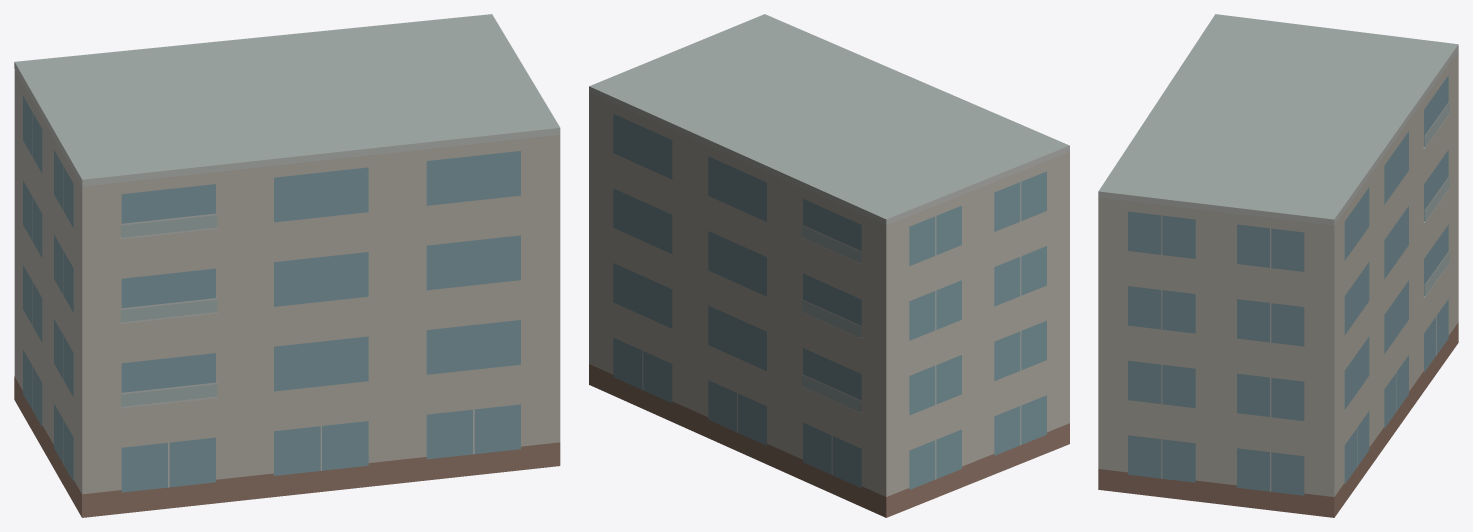
File: survey-upis-32871700.glb
The picture shows the model from 3 angles, left to right: view 1: azimuth 30°, elevation 25°; view 2: azimuth 150°, elevation 25°; view 3: azimuth 270°, elevation 25°; orthographic projection. The views are drawn at different scales.
Visible parts, largest first — view 1: survey-upis-32871700.tmp; view 2: survey-upis-32871700.tmp; view 3: survey-upis-32871700.tmp.
Part boxes in pixels (left/top/right/bottom): survey-upis-32871700.tmp: left=14, top=14, right=560, bottom=517; survey-upis-32871700.tmp: left=589, top=14, right=1069, bottom=517; survey-upis-32871700.tmp: left=1098, top=14, right=1458, bottom=517.
Size of the model in its own units: 18.04 by 12.2 by 13.36.
